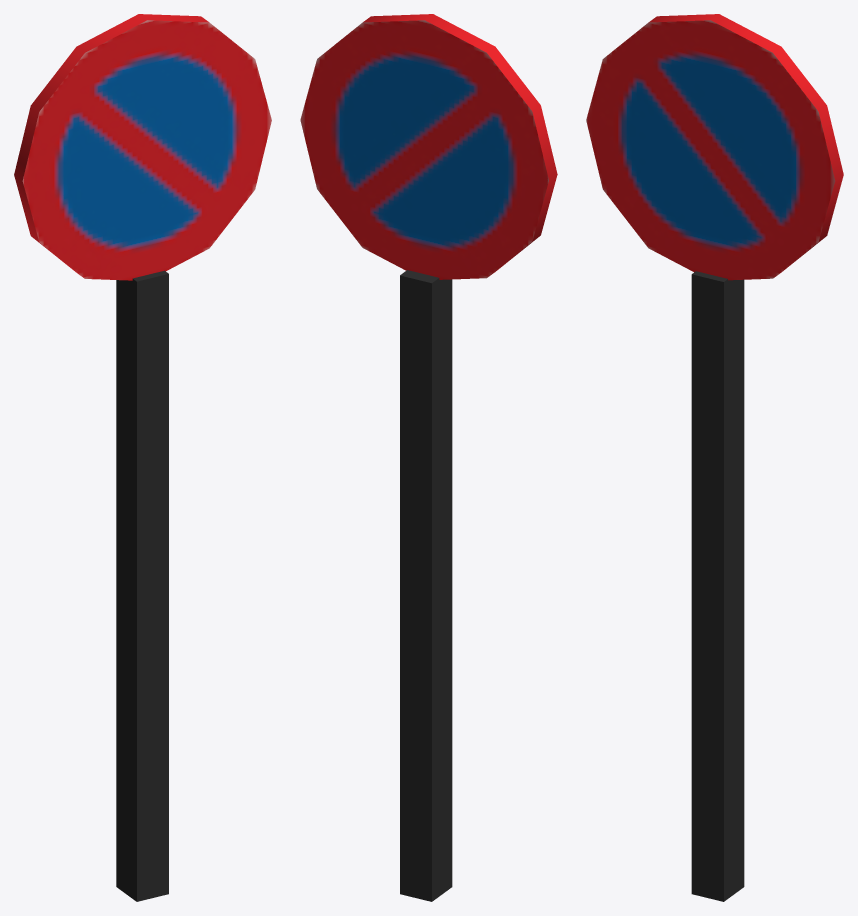
Rendered from road sign-2.FBX.
3 renders of one model, left to right at view 1: azimuth 30°, elevation 25°; view 2: azimuth 150°, elevation 25°; view 3: azimuth 330°, elevation 25°, orthographic.
Visible parts, largest first — view 1: road sign 2; view 2: road sign 2; view 3: road sign 2.
Part boxes in pixels (x1=…): road sign 2: x1=14, y1=14, x2=271, y2=901; road sign 2: x1=300, y1=14, x2=557, y2=901; road sign 2: x1=586, y1=14, x2=843, y2=901.
Bounding box in the file's own units: 333 × 1118 × 47.22.
